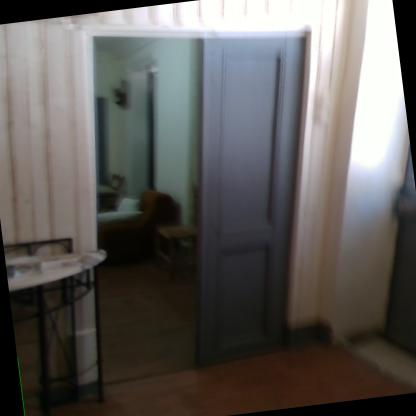open: (45, 0, 356, 397)
